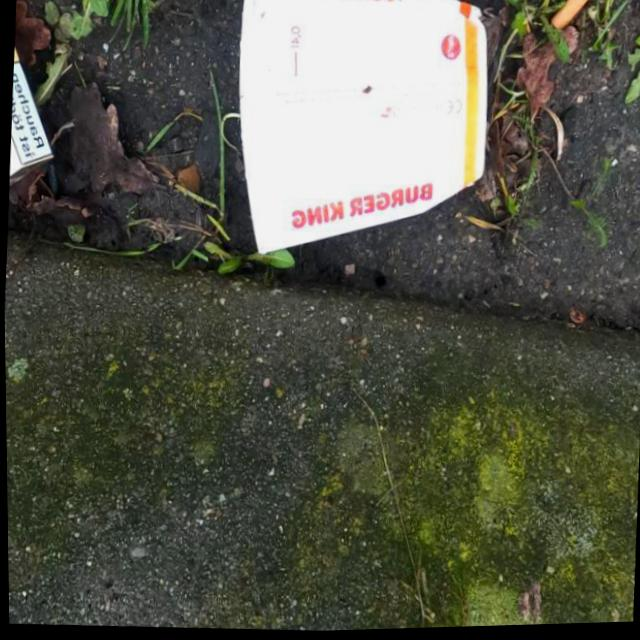Cup: (223, 0, 498, 271)
